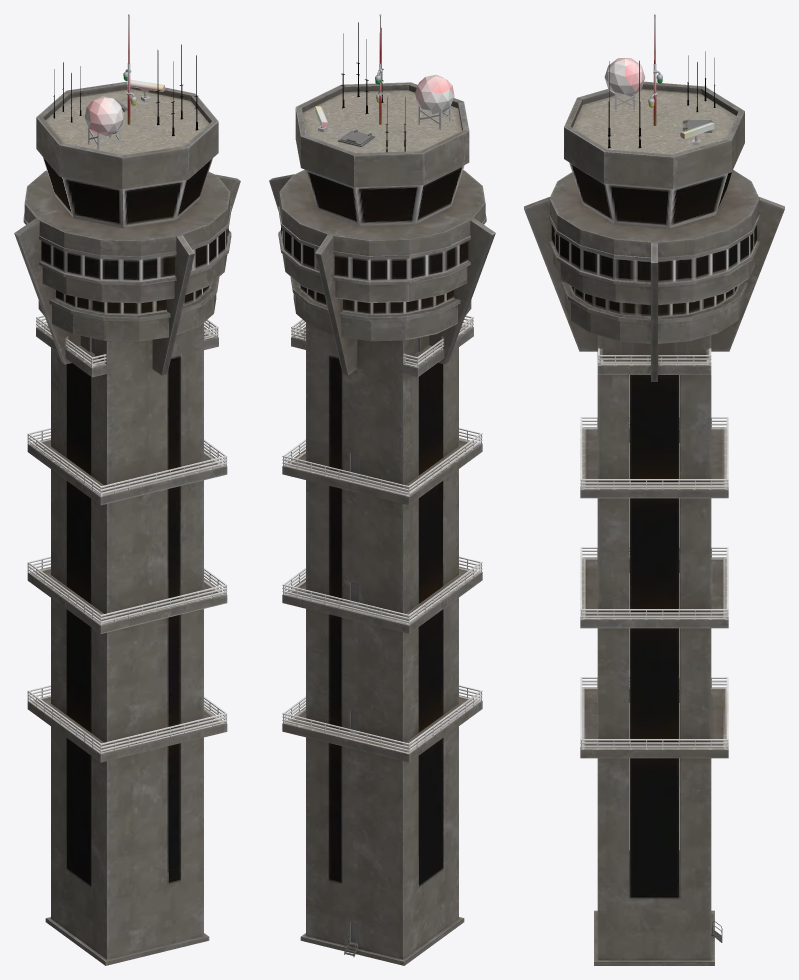
Rendered from tower.glb.
3 renders of one model, left to right at view 1: azimuth 30°, elevation 25°; view 2: azimuth 150°, elevation 25°; view 3: azimuth 270°, elevation 25°, orthographic.
Visible parts, largest first — view 1: Tower, ObservationDeck, TowerWindows, Platforms, Cube.003, Windows, Fins, Icosphere, Base, UpperRails, Cylinder.003; view 2: Tower, ObservationDeck, TowerWindows, Platforms, Cube.003, Windows, Fins, Icosphere, Base, UpperRails; view 3: Tower, ObservationDeck, TowerWindows, Platforms, Windows, Fins, Cube.003, Icosphere, Base, UpperRails.
Part boxes in pixels (box(x1,y1,x2,y2)): Tower: box(36, 323, 218, 959); ObservationDeck: box(23, 81, 231, 341); TowerWindows: box(66, 356, 180, 886); Platforms: box(27, 438, 227, 762); Cube.003: box(27, 428, 227, 753); Windows: box(41, 228, 228, 315); Fins: box(14, 174, 240, 375); Icosphere: box(84, 96, 124, 136); Base: box(45, 917, 209, 965); UpperRails: box(36, 315, 218, 367); Cylinder.003: box(156, 44, 198, 136); Tower: box(291, 322, 473, 959); ObservationDeck: box(278, 82, 486, 341); TowerWindows: box(329, 355, 443, 886); Platforms: box(282, 438, 482, 762); Cube.003: box(282, 428, 482, 753); Windows: box(281, 227, 468, 314); Fins: box(269, 174, 495, 375); Icosphere: box(415, 74, 454, 114); Base: box(300, 917, 464, 965); UpperRails: box(291, 315, 473, 367); Tower: box(597, 335, 711, 960); ObservationDeck: box(549, 81, 759, 343); TowerWindows: box(629, 375, 679, 898); Platforms: box(580, 427, 728, 758); Windows: box(551, 224, 756, 317); Fins: box(524, 197, 784, 381); Cube.003: box(580, 417, 728, 749); Icosphere: box(604, 58, 645, 96); Base: box(594, 910, 714, 965); UpperRails: box(598, 348, 711, 365).
Size of the model in its own units: 23 by 90.17 by 23.
1 material, 1 textured.
